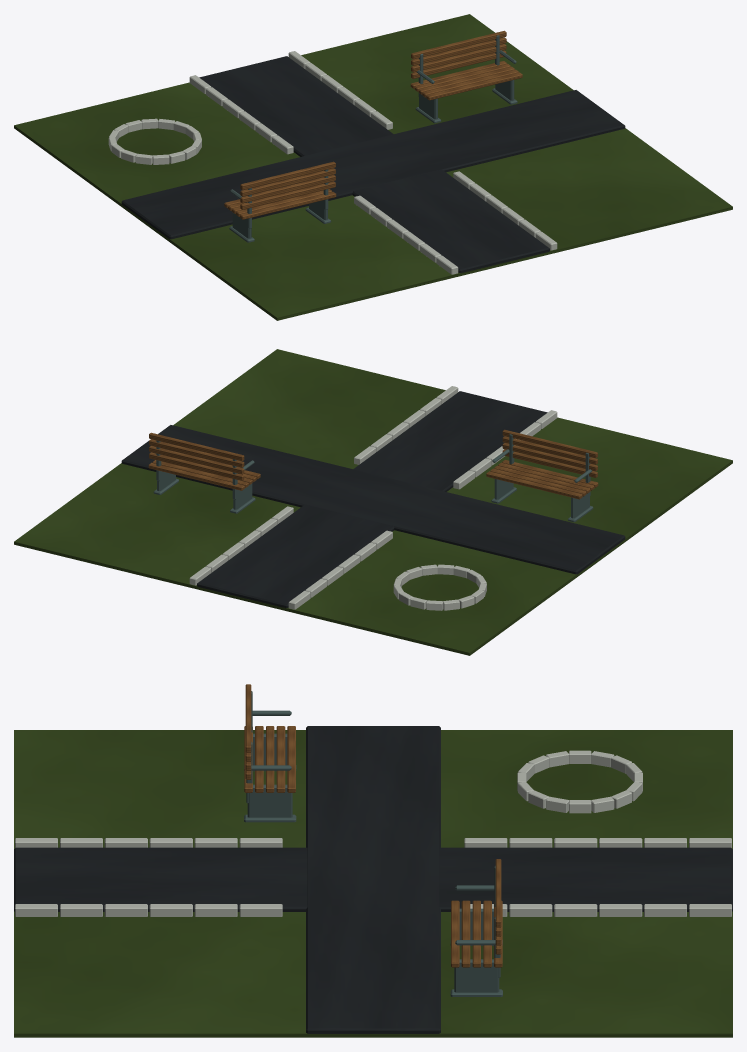
3 renders of one model, top to bottom at view 1: azimuth 30°, elevation 25°; view 2: azimuth 150°, elevation 25°; view 3: azimuth 270°, elevation 25°, orthographic. The views are drawn at different scales.
Visible parts, largest first — view 1: static_park_planted_ground, static_park_cross_walk, static_park_main_walk, static_bench_back_slat_003, static_bench_back_slat_002, static_bench_back_slat, static_bench_back_slat_001, static_bench_back_slat_007, static_bench_seat_slat_009, static_bench_back_slat_006, static_bench_back_slat_005, static_bench_seat_slat (+1 smaller); view 2: static_park_planted_ground, static_park_cross_walk, static_park_main_walk, static_bench_back_slat_007, static_bench_back_slat_006, static_bench_back_slat_004, static_bench_back_slat_005, static_bench_back_slat_003, static_bench_seat_slat_004, static_bench_back_slat_002, static_bench_back_slat_001, static_bench_seat_slat_005 (+1 smaller); view 3: static_park_planted_ground, static_park_cross_walk, static_park_main_walk, static_bench_cast_iron_leg_002, static_bench_cast_iron_leg_001, static_bench_seat_slat_008, static_bench_seat_slat_003, static_bench_seat_slat_009, static_bench_seat_slat_004, static_park_cut_stone_path_edge_014, static_park_cut_stone_path_edge_015, static_park_cut_stone_path_edge_016 (+4 smaller).
Boxes of the visible parts, <box> form: static_park_planted_ground: <box>14,14,732,320</box>; static_park_cross_walk: <box>121,90,625,239</box>; static_park_main_walk: <box>199,56,549,272</box>; static_bench_back_slat_003: <box>240,161,335,190</box>; static_bench_back_slat_002: <box>240,168,335,196</box>; static_bench_back_slat: <box>240,181,335,209</box>; static_bench_back_slat_001: <box>240,174,335,203</box>; static_bench_back_slat_007: <box>411,30,506,59</box>; static_bench_seat_slat_009: <box>426,72,522,100</box>; static_bench_back_slat_006: <box>411,37,506,65</box>; static_bench_back_slat_005: <box>411,44,506,72</box>; static_bench_seat_slat: <box>240,192,336,219</box>; static_park_planted_ground: <box>14,349,732,655</box>; static_park_cross_walk: <box>121,425,625,574</box>; static_park_main_walk: <box>197,391,547,608</box>; static_bench_back_slat_007: <box>149,432,244,461</box>; static_bench_back_slat_006: <box>149,439,244,467</box>; static_bench_back_slat_004: <box>149,452,244,480</box>; static_bench_back_slat_005: <box>149,446,244,474</box>; static_bench_back_slat_003: <box>502,429,597,458</box>; static_bench_seat_slat_004: <box>486,471,582,499</box>; static_bench_back_slat_002: <box>502,436,597,464</box>; static_bench_back_slat_001: <box>502,443,597,471</box>; static_bench_seat_slat_005: <box>148,462,244,490</box>; static_park_planted_ground: <box>14,730,732,1037</box>; static_park_cross_walk: <box>306,726,440,1033</box>; static_park_main_walk: <box>14,847,732,911</box>; static_bench_cast_iron_leg_002: <box>454,959,499,992</box>; static_bench_cast_iron_leg_001: <box>247,784,292,817</box>; static_bench_seat_slat_008: <box>461,900,470,967</box>; static_bench_seat_slat_003: <box>276,726,285,792</box>; static_bench_seat_slat_009: <box>451,900,459,967</box>; static_bench_seat_slat_004: <box>287,726,295,792</box>; static_park_cut_stone_path_edge_014: <box>104,904,147,916</box>; static_park_cut_stone_path_edge_015: <box>149,904,192,916</box>; static_park_cut_stone_path_edge_016: <box>194,904,237,916</box>.
Bounding box in the file's own units: 8 × 1.02 × 8.
5 materials, 3 textured.
